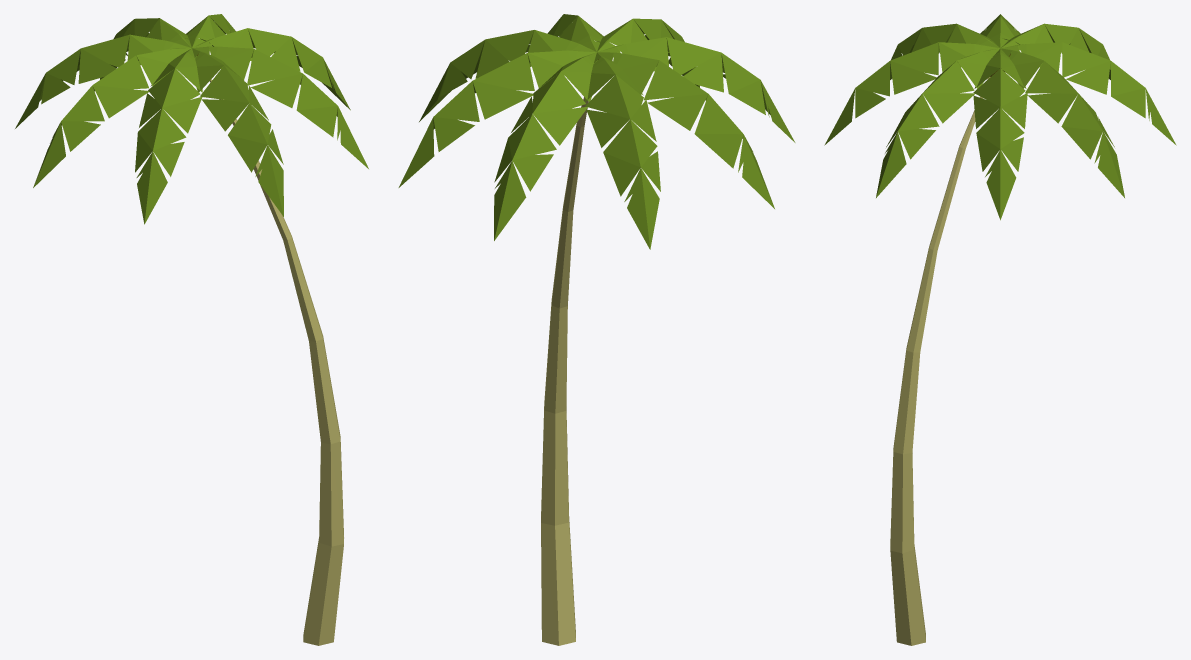
The model's file is palm_tree_5.fbx.
The picture shows the model from 3 angles, left to right: view 1: azimuth 30°, elevation 25°; view 2: azimuth 150°, elevation 25°; view 3: azimuth 270°, elevation 25°; orthographic projection. The views are drawn at different scales.
Parts seen in each view (by area): view 1: G-Object.002, C-Palm Tree Leaf#8.001, C-Palm Tree Leaf#8, C-Palm Tree Leaf#8.004, C-Palm Tree Leaf#8.005, C-Palm Tree Leaf#8.002, C-Palm Tree Leaf#8.007, C-Palm Tree Leaf#8.003, C-Palm Tree Leaf#8.006; view 2: G-Object.002, C-Palm Tree Leaf#8.002, C-Palm Tree Leaf#8.003, C-Palm Tree Leaf#8.004, C-Palm Tree Leaf#8.006, C-Palm Tree Leaf#8.001, C-Palm Tree Leaf#8.007, C-Palm Tree Leaf#8, C-Palm Tree Leaf#8.005; view 3: G-Object.002, C-Palm Tree Leaf#8.007, C-Palm Tree Leaf#8.006, C-Palm Tree Leaf#8.005, C-Palm Tree Leaf#8.003, C-Palm Tree Leaf#8, C-Palm Tree Leaf#8.002, C-Palm Tree Leaf#8.001, C-Palm Tree Leaf#8.004.
Boxes of the visible parts, x1,y1,x2,y2 form: G-Object.002: [210, 79, 343, 645]; C-Palm Tree Leaf#8.001: [135, 48, 202, 224]; C-Palm Tree Leaf#8: [192, 48, 283, 216]; C-Palm Tree Leaf#8.004: [33, 48, 191, 187]; C-Palm Tree Leaf#8.005: [192, 46, 368, 168]; C-Palm Tree Leaf#8.002: [15, 34, 191, 128]; C-Palm Tree Leaf#8.007: [193, 28, 350, 110]; C-Palm Tree Leaf#8.003: [100, 18, 191, 79]; C-Palm Tree Leaf#8.006: [185, 14, 235, 47]; G-Object.002: [541, 97, 588, 645]; C-Palm Tree Leaf#8.002: [585, 52, 660, 249]; C-Palm Tree Leaf#8.003: [494, 52, 597, 240]; C-Palm Tree Leaf#8.004: [597, 52, 774, 208]; C-Palm Tree Leaf#8.006: [398, 50, 595, 187]; C-Palm Tree Leaf#8.001: [597, 37, 795, 142]; C-Palm Tree Leaf#8.007: [419, 30, 596, 121]; C-Palm Tree Leaf#8: [596, 18, 699, 87]; C-Palm Tree Leaf#8.005: [547, 14, 603, 51]; G-Object.002: [890, 77, 990, 645]; C-Palm Tree Leaf#8.007: [973, 48, 1027, 220]; C-Palm Tree Leaf#8.006: [1001, 48, 1124, 197]; C-Palm Tree Leaf#8.005: [876, 48, 999, 197]; C-Palm Tree Leaf#8.003: [1001, 42, 1176, 145]; C-Palm Tree Leaf#8: [824, 42, 999, 145]; C-Palm Tree Leaf#8.002: [1001, 23, 1110, 79]; C-Palm Tree Leaf#8.001: [890, 23, 999, 79]; C-Palm Tree Leaf#8.004: [980, 14, 1020, 53].
Bounding box in the file's own units: 694 × 1213 × 694.
